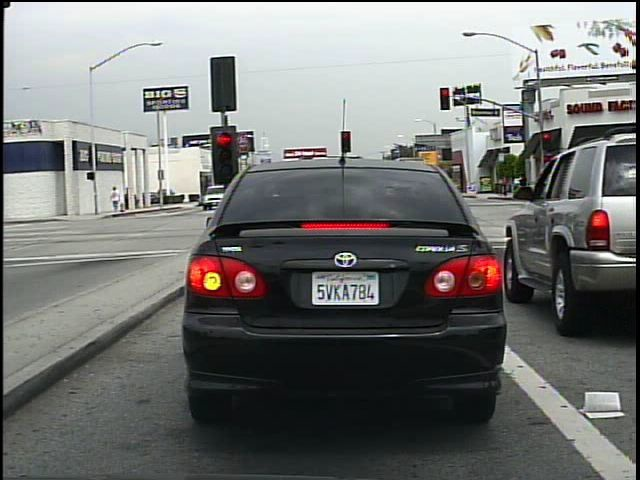person: (516, 171, 531, 203), (109, 184, 124, 214)
